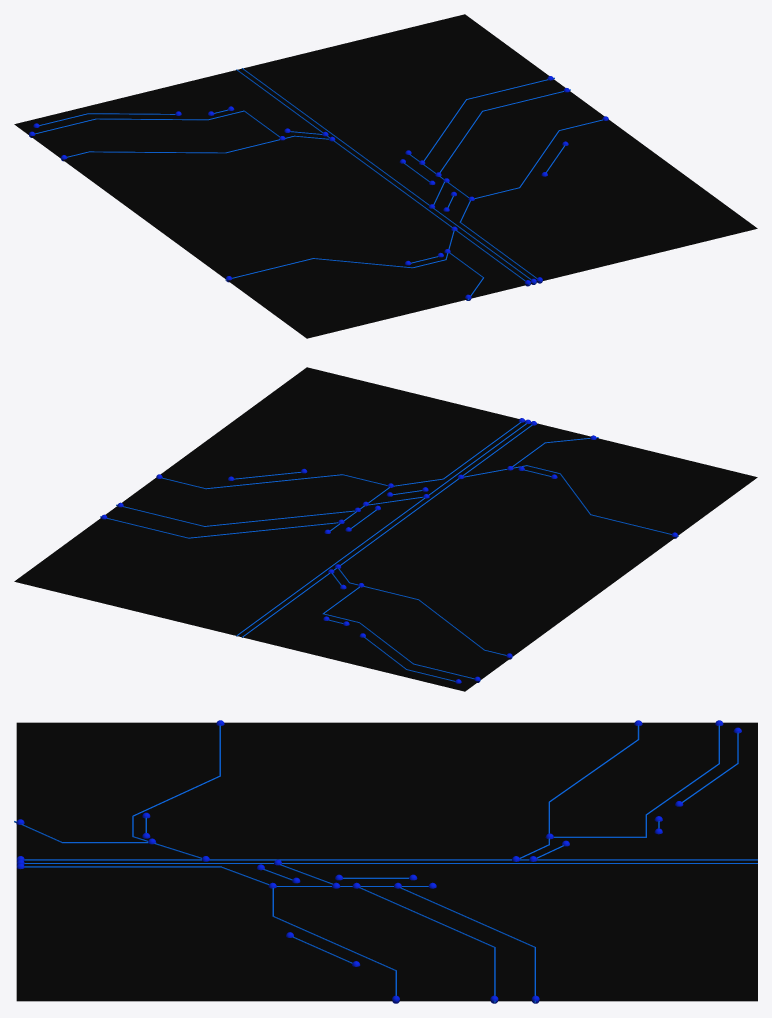
The picture shows the model from 3 angles, top to bottom: view 1: azimuth 30°, elevation 25°; view 2: azimuth 150°, elevation 25°; view 3: azimuth 270°, elevation 25°; orthographic projection. The views are drawn at different scales.
Parts seen in each view (by area): view 1: Plane, Cylinder, Cylinder.001; view 2: Plane, Cylinder, Cylinder.001; view 3: Plane, Cylinder.001, Cylinder.
Part boxes in pixels (x1,y1,x2,y2): Plane: (14,14,757,338); Cylinder: (242,68,535,283); Cylinder.001: (236,69,530,284); Plane: (14,367,757,691); Cylinder: (236,423,526,636); Cylinder.001: (241,425,532,637); Plane: (16,722,757,1001); Cylinder.001: (24,859,757,860); Cylinder: (24,863,757,863).
Bounding box in the file's own units: 16.09 × 0.2 × 18.06.
